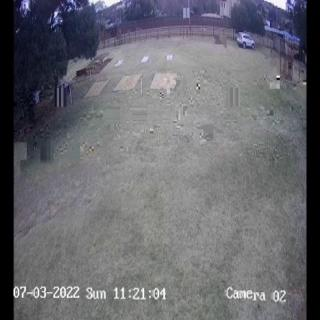car: (236, 32, 254, 48)
